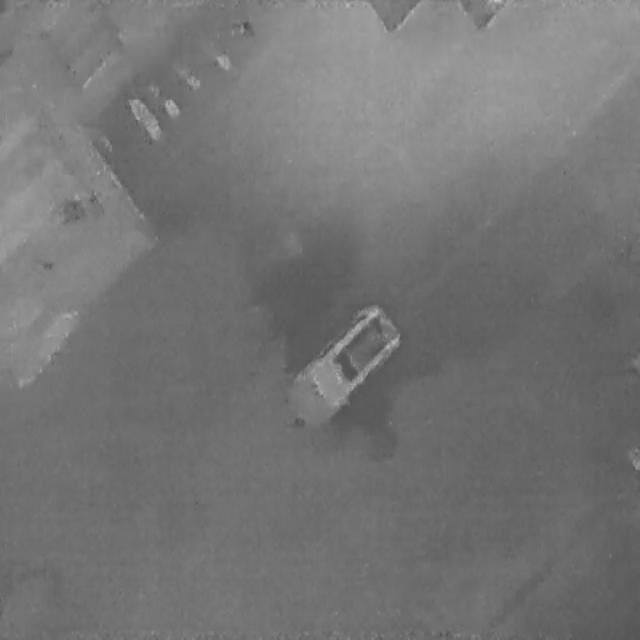Bicycle: (119, 86, 168, 149), (140, 72, 184, 126), (167, 50, 206, 95), (202, 34, 237, 76)
Car: (269, 289, 410, 446)
